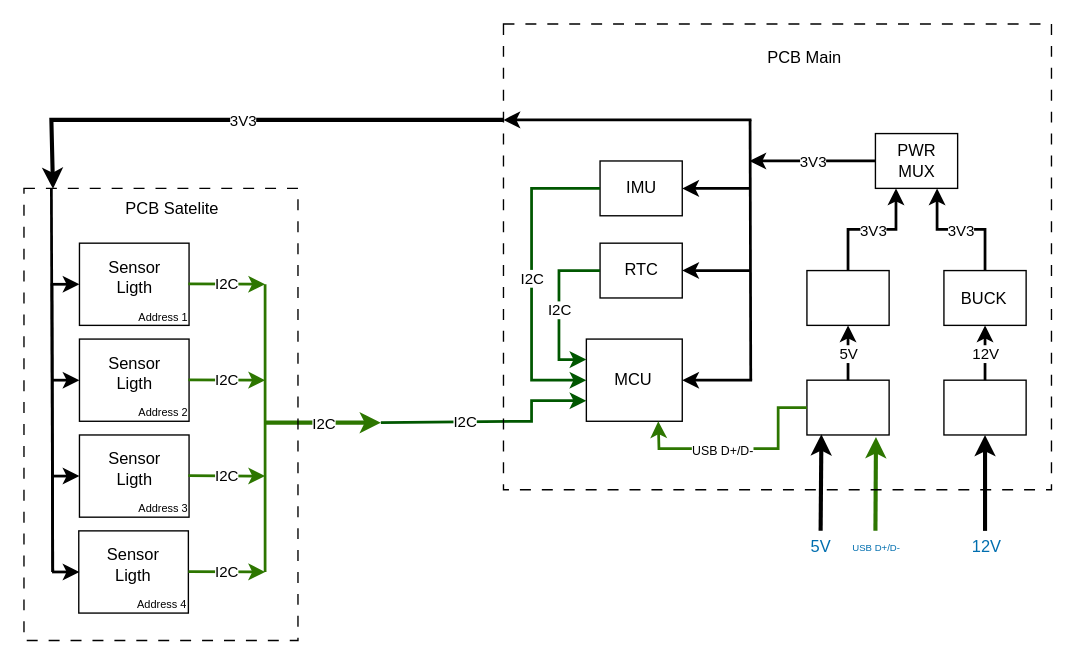
Image size: 1075x664. Some labels were removed from this diagram. Each missing label, with the centre of its shape:
"LDO" belongs at point 847,297.
"RPP" belongs at point 984,407.
"USB C" belongs at point 847,407.
